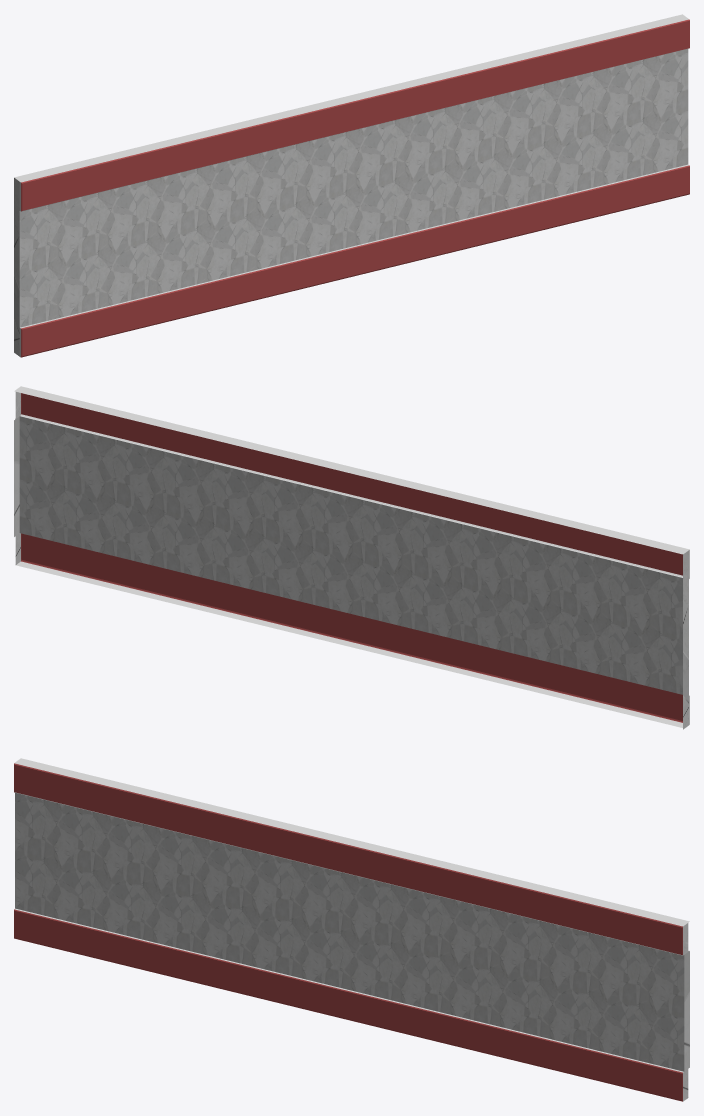
Rendered from wall02_2.fbx.
3 renders of one model, top to bottom at view 1: azimuth 30°, elevation 25°; view 2: azimuth 150°, elevation 25°; view 3: azimuth 330°, elevation 25°, orthographic.
Parts seen in each view (by area): view 1: Wall02_2; view 2: Wall02_2; view 3: Wall02_2.
Part boxes in pixels (box(x1,y1,x2,y2)): Wall02_2: box(14, 14, 689, 357); Wall02_2: box(14, 386, 689, 729); Wall02_2: box(14, 758, 689, 1101).
Size of the model in its own units: 240 by 60.06 by 4.59.
